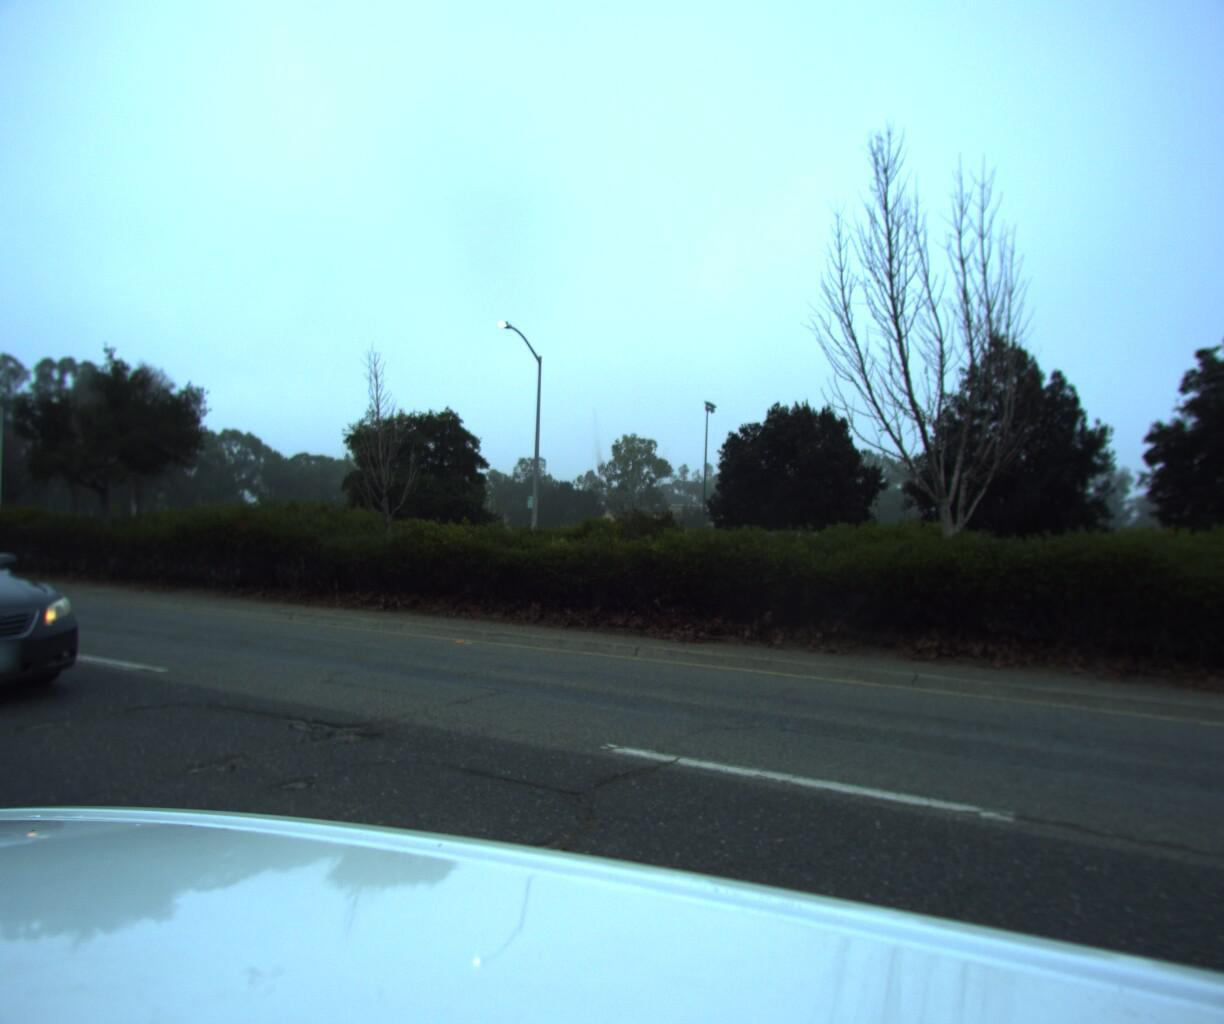car: (0, 492, 125, 746)
